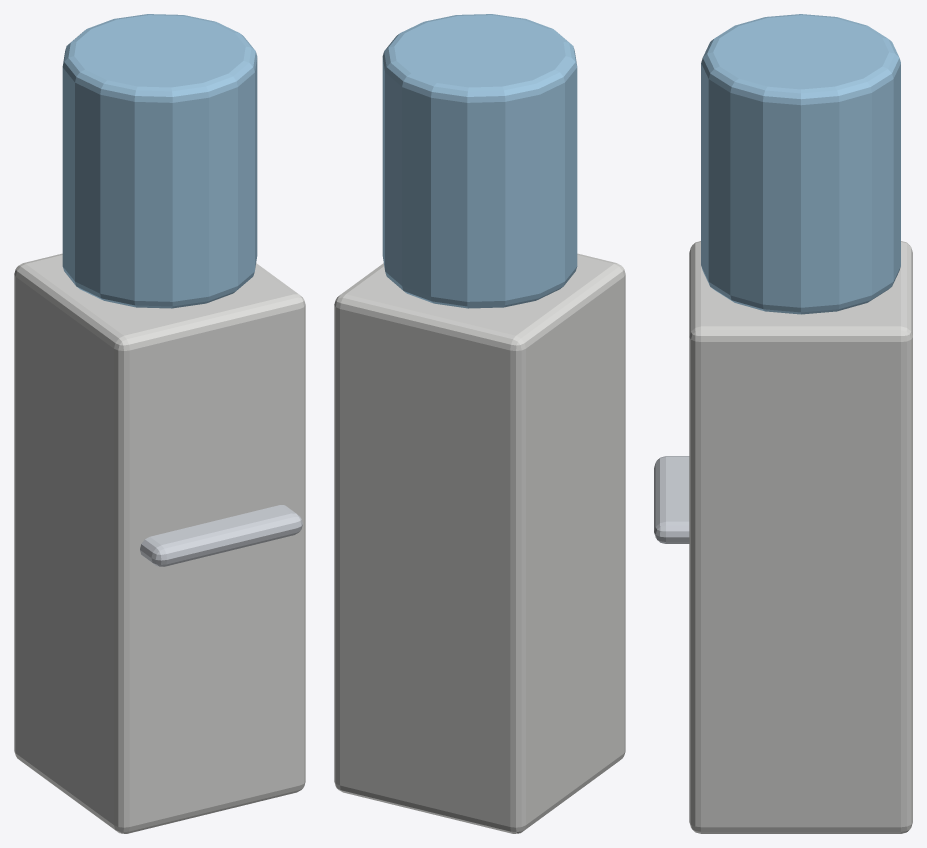
The model's file is WaterCooler.fbx.
The picture shows the model from 3 angles, left to right: view 1: azimuth 30°, elevation 25°; view 2: azimuth 150°, elevation 25°; view 3: azimuth 270°, elevation 25°; orthographic projection.
Parts seen in each view (by area): view 1: WaterCooler; view 2: WaterCooler; view 3: WaterCooler.
Boxes of the visible parts, x1,y1,x2,y2 form: WaterCooler: (14, 14, 305, 833); WaterCooler: (334, 14, 625, 833); WaterCooler: (654, 14, 912, 833).
Size of the model in its own units: 0.38 by 1.38 by 0.44.
